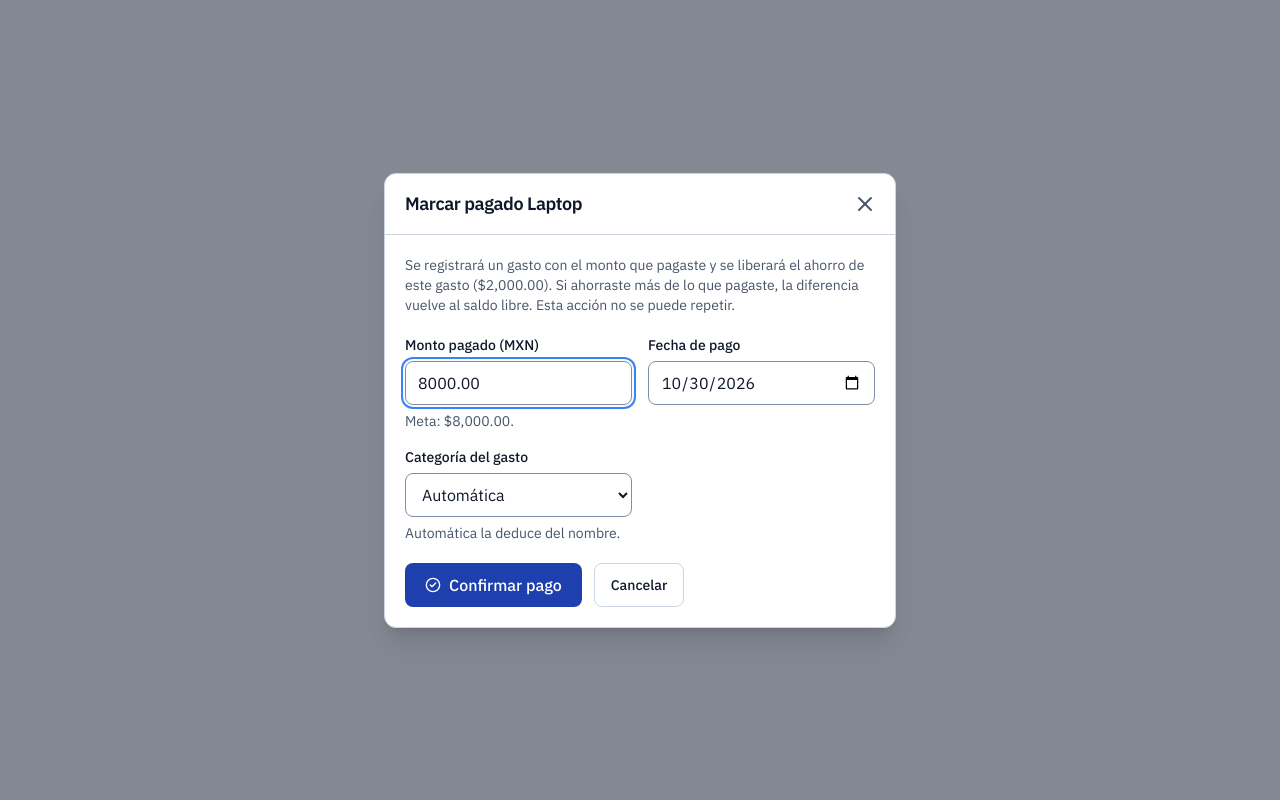
Test: PayDialog › blocks an invalid amount and says a double payment is rejected
Replace the text in the field labelled "Monto pagado (MXN)" with "0": (518, 382) [405, 360, 632, 404]
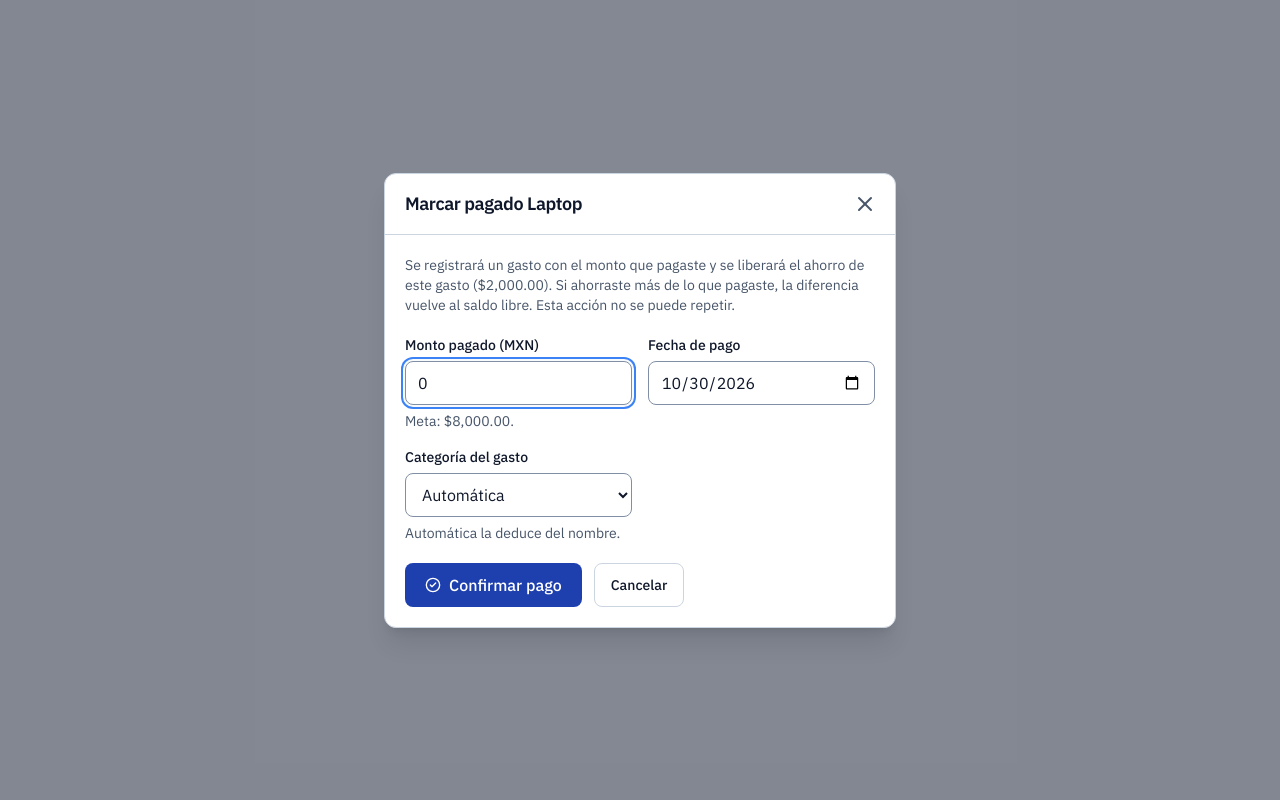
Click the button "Confirmar pago": (493, 584) [405, 562, 582, 606]
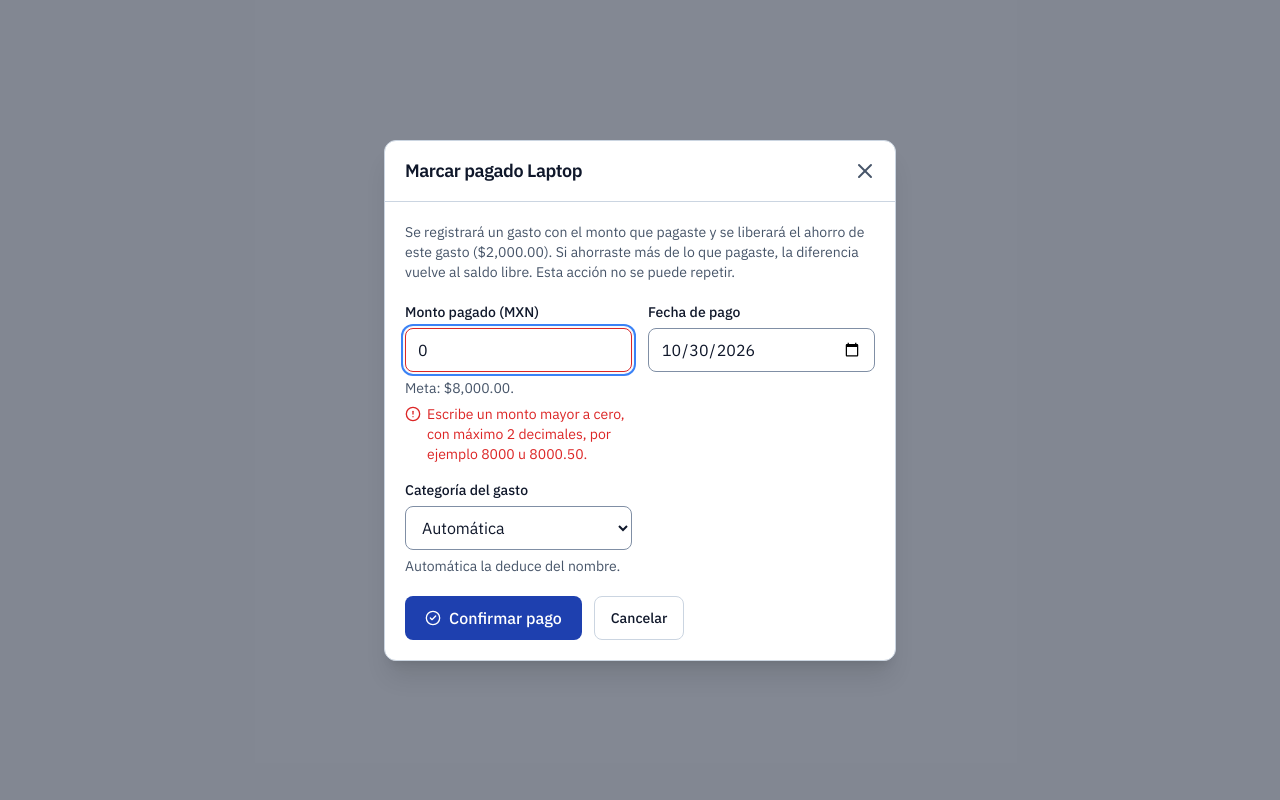
Replace the text in the field labelled "Monto pagado (MXN)" with "100": (518, 350) [405, 328, 632, 372]
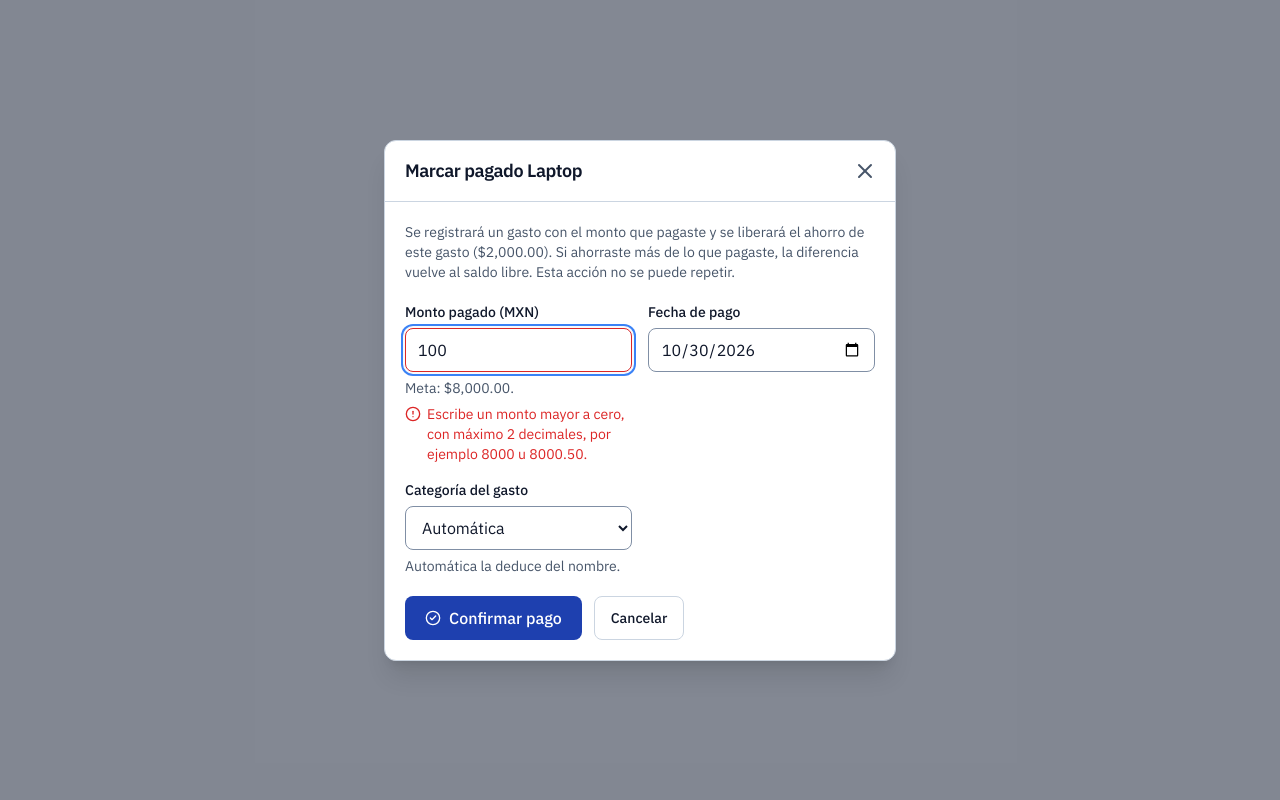
Click the button "Confirmar pago": (493, 618) [405, 596, 582, 640]
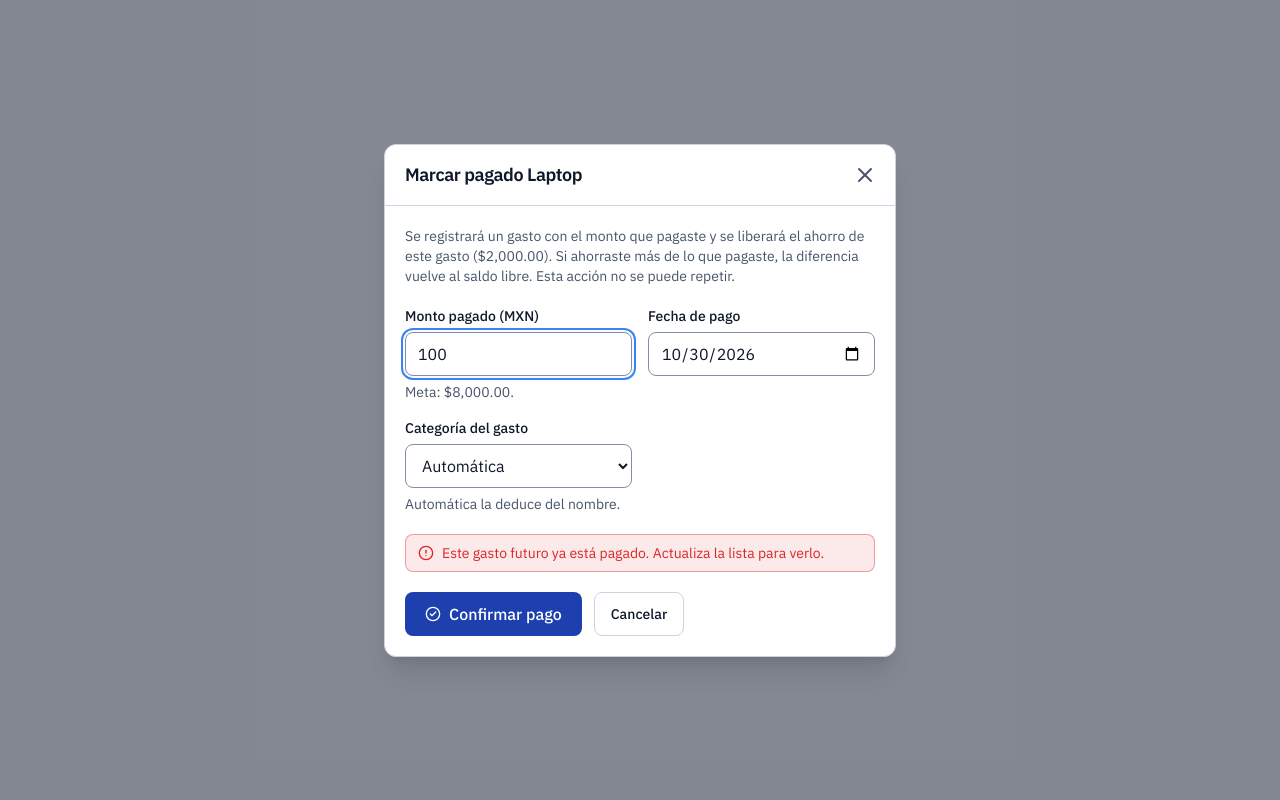
Expected: the text "ya está pagado" is shown, [442, 544, 824, 562]
